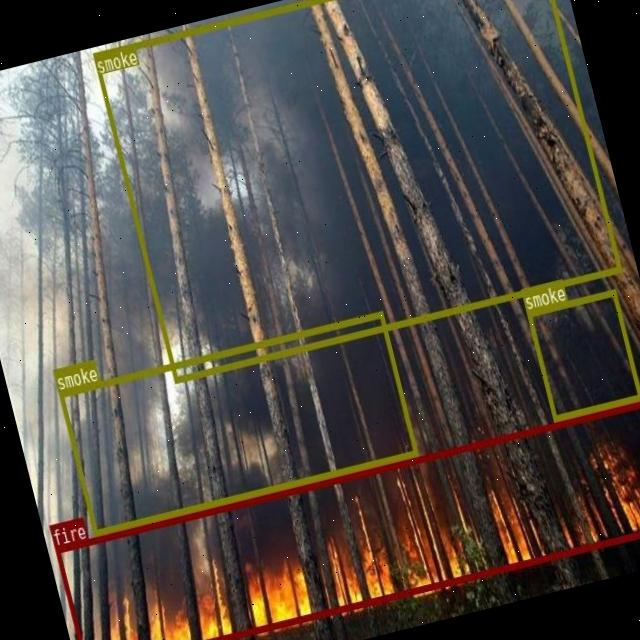fire: (53, 394, 640, 640)
smoke: (91, 0, 620, 381), (58, 310, 418, 535), (525, 287, 640, 420)
